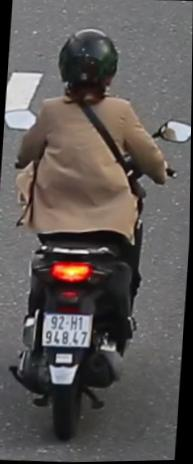LP: (41, 310, 97, 355)
helmet: (54, 21, 122, 109)
